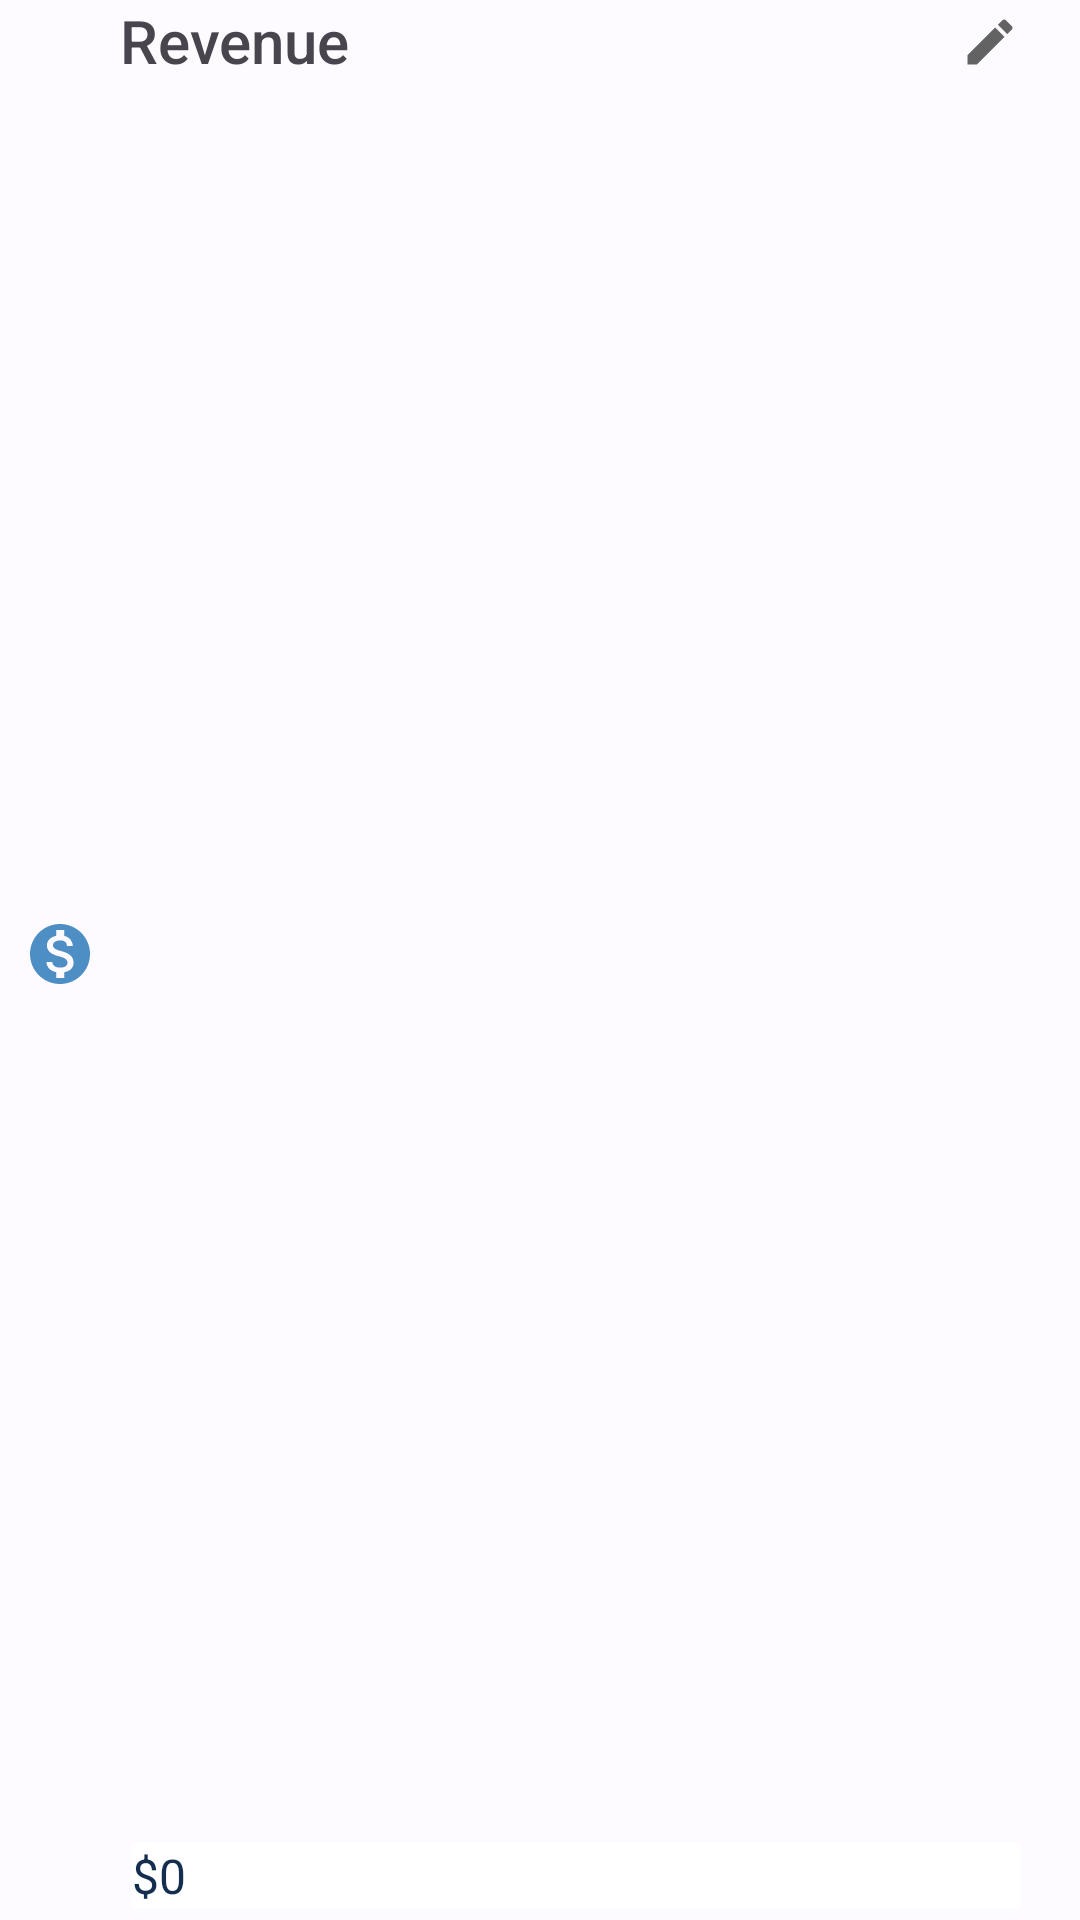

Icons on this 1080x1920 Android screen, each with its box as [left=x1, top=y1, right=x2, bottom=y2]:
edit: [left=967, top=19, right=1013, bottom=65]
rev: [left=30, top=924, right=90, bottom=984]
